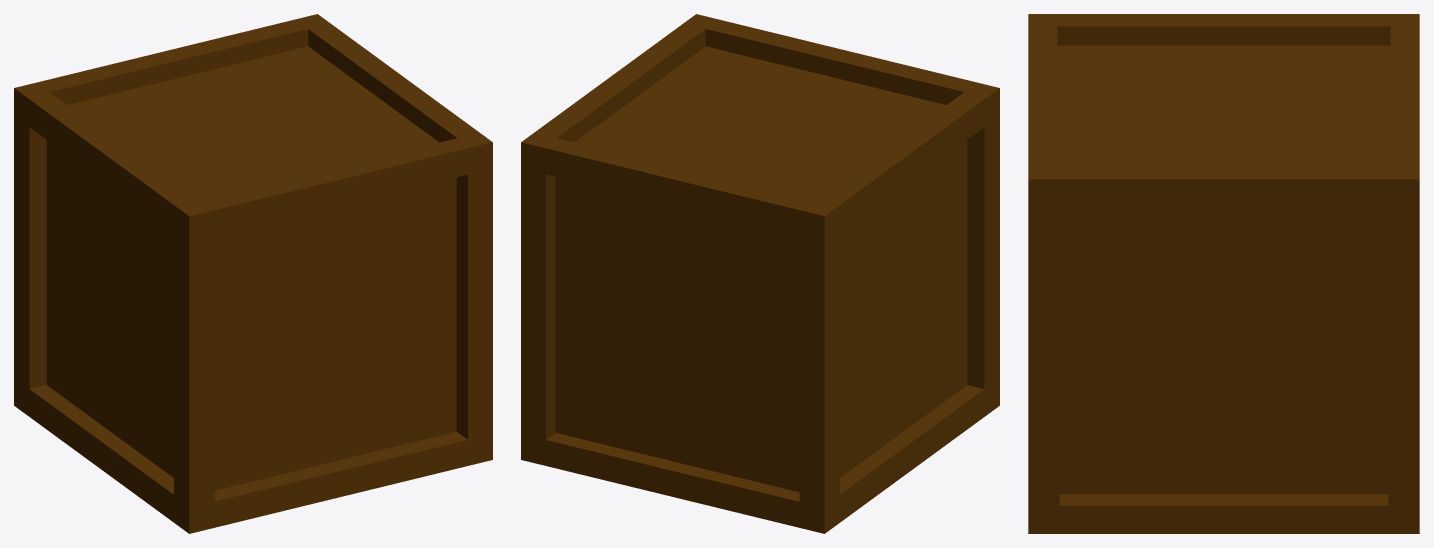
File: HarmlessBox.fbx
The picture shows the model from 3 angles, left to right: view 1: azimuth 30°, elevation 25°; view 2: azimuth 150°, elevation 25°; view 3: azimuth 270°, elevation 25°; orthographic projection. The views are drawn at different scales.
Visible parts, largest first — view 1: HarmlessBox; view 2: HarmlessBox; view 3: HarmlessBox.
Part boxes in pixels (x1=…): HarmlessBox: x1=14, y1=14, x2=492, y2=533; HarmlessBox: x1=521, y1=14, x2=999, y2=533; HarmlessBox: x1=1028, y1=14, x2=1419, y2=533.
Bounding box in the file's own units: 100 × 100 × 100.
